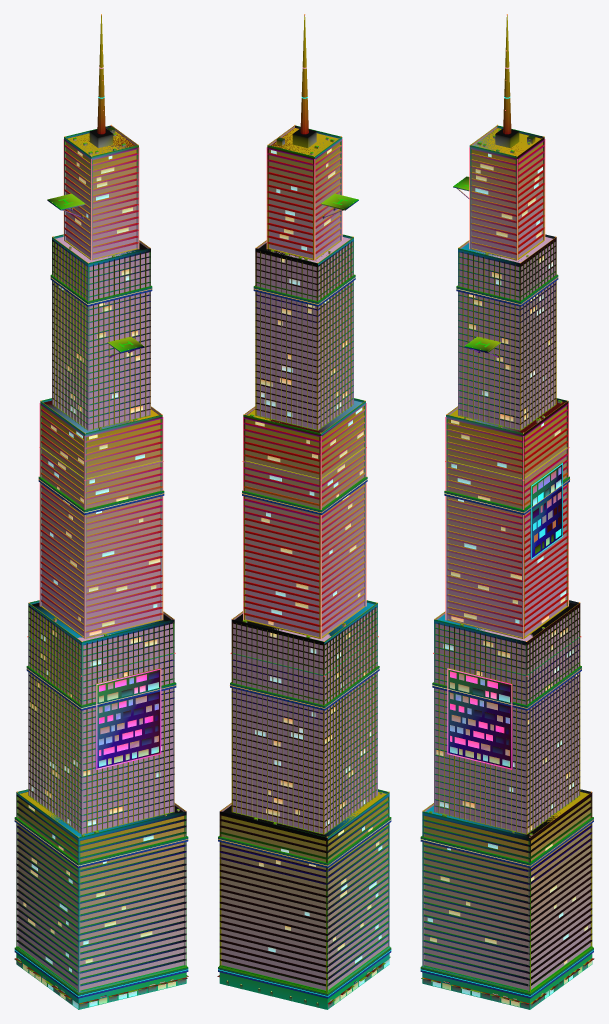
Rendered from Mega_Arcology.fbx.
The picture shows the model from 3 angles, left to right: view 1: azimuth 30°, elevation 25°; view 2: azimuth 150°, elevation 25°; view 3: azimuth 330°, elevation 25°; orthographic projection.
Visible parts, largest first — view 1: Mega_Arcology_LOD0; view 2: Mega_Arcology_LOD0; view 3: Mega_Arcology_LOD0.
Part boxes in pixels (left/top/right/bottom): Mega_Arcology_LOD0: left=14, top=14, right=188, bottom=1009; Mega_Arcology_LOD0: left=217, top=14, right=391, bottom=1009; Mega_Arcology_LOD0: left=420, top=14, right=594, bottom=1009.
Size of what is drawn, in the model's own units: 66.8 by 544 by 66.05.
